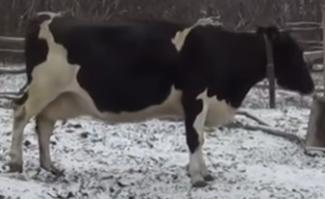cow: (10, 13, 315, 187)
